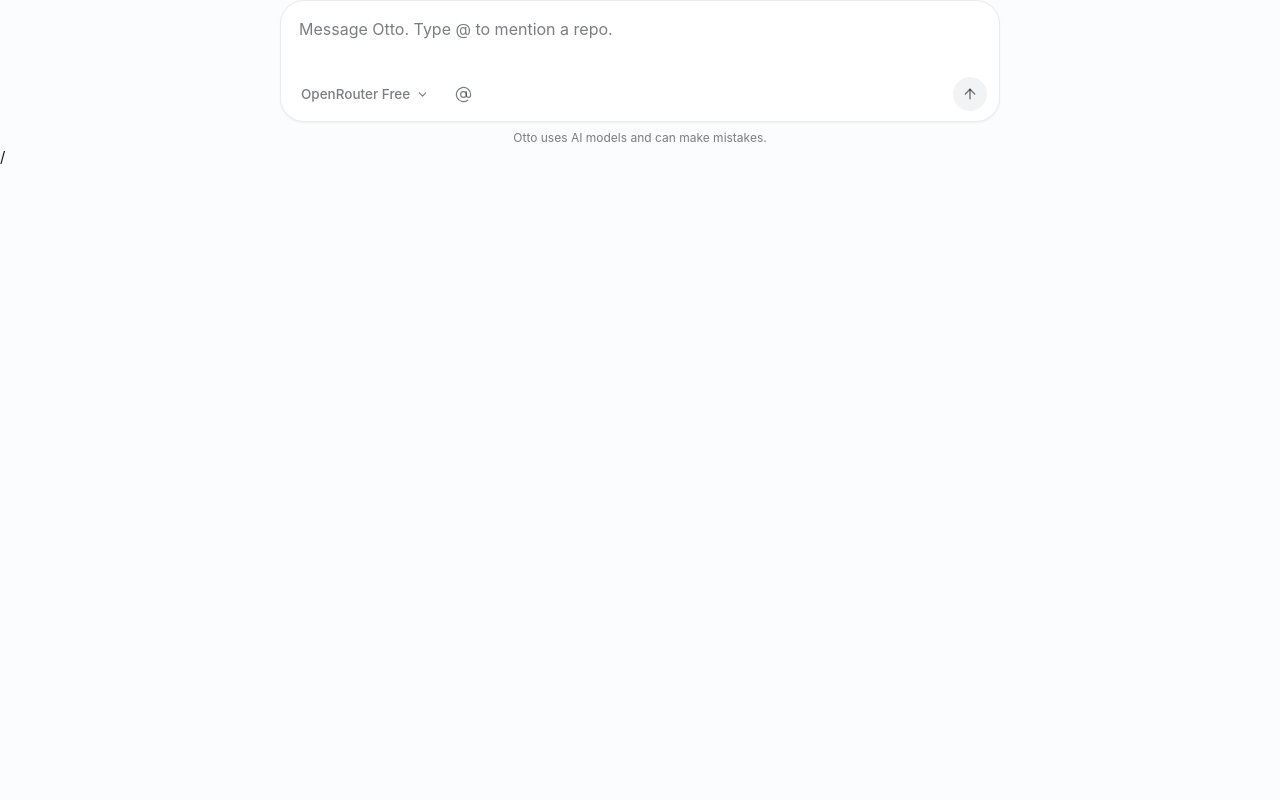
Test: with no repos, @ offers to install Otto on one
The width and height of the screenshot is (1280, 800).
Expected: the button "OpenRouter Free" is shown, [291, 78, 439, 110]
Type "@" into the text box labelled "Message Otto" at {"x": 643, "y": 42}, box [299, 15, 987, 69]
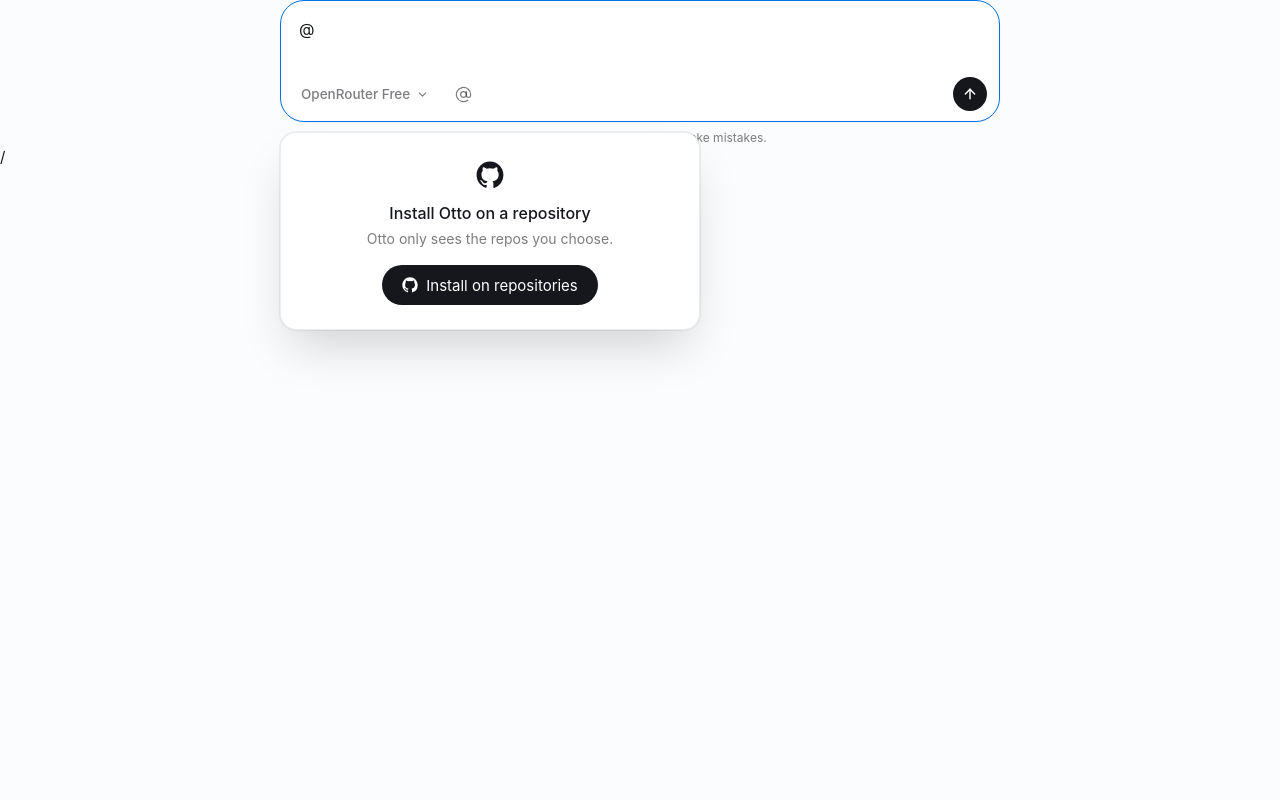
Expected: the text "Install Otto on a repository" is shown, [389, 203, 591, 223]
Expected: the button "Install on repositories" is shown, [382, 265, 598, 305]
